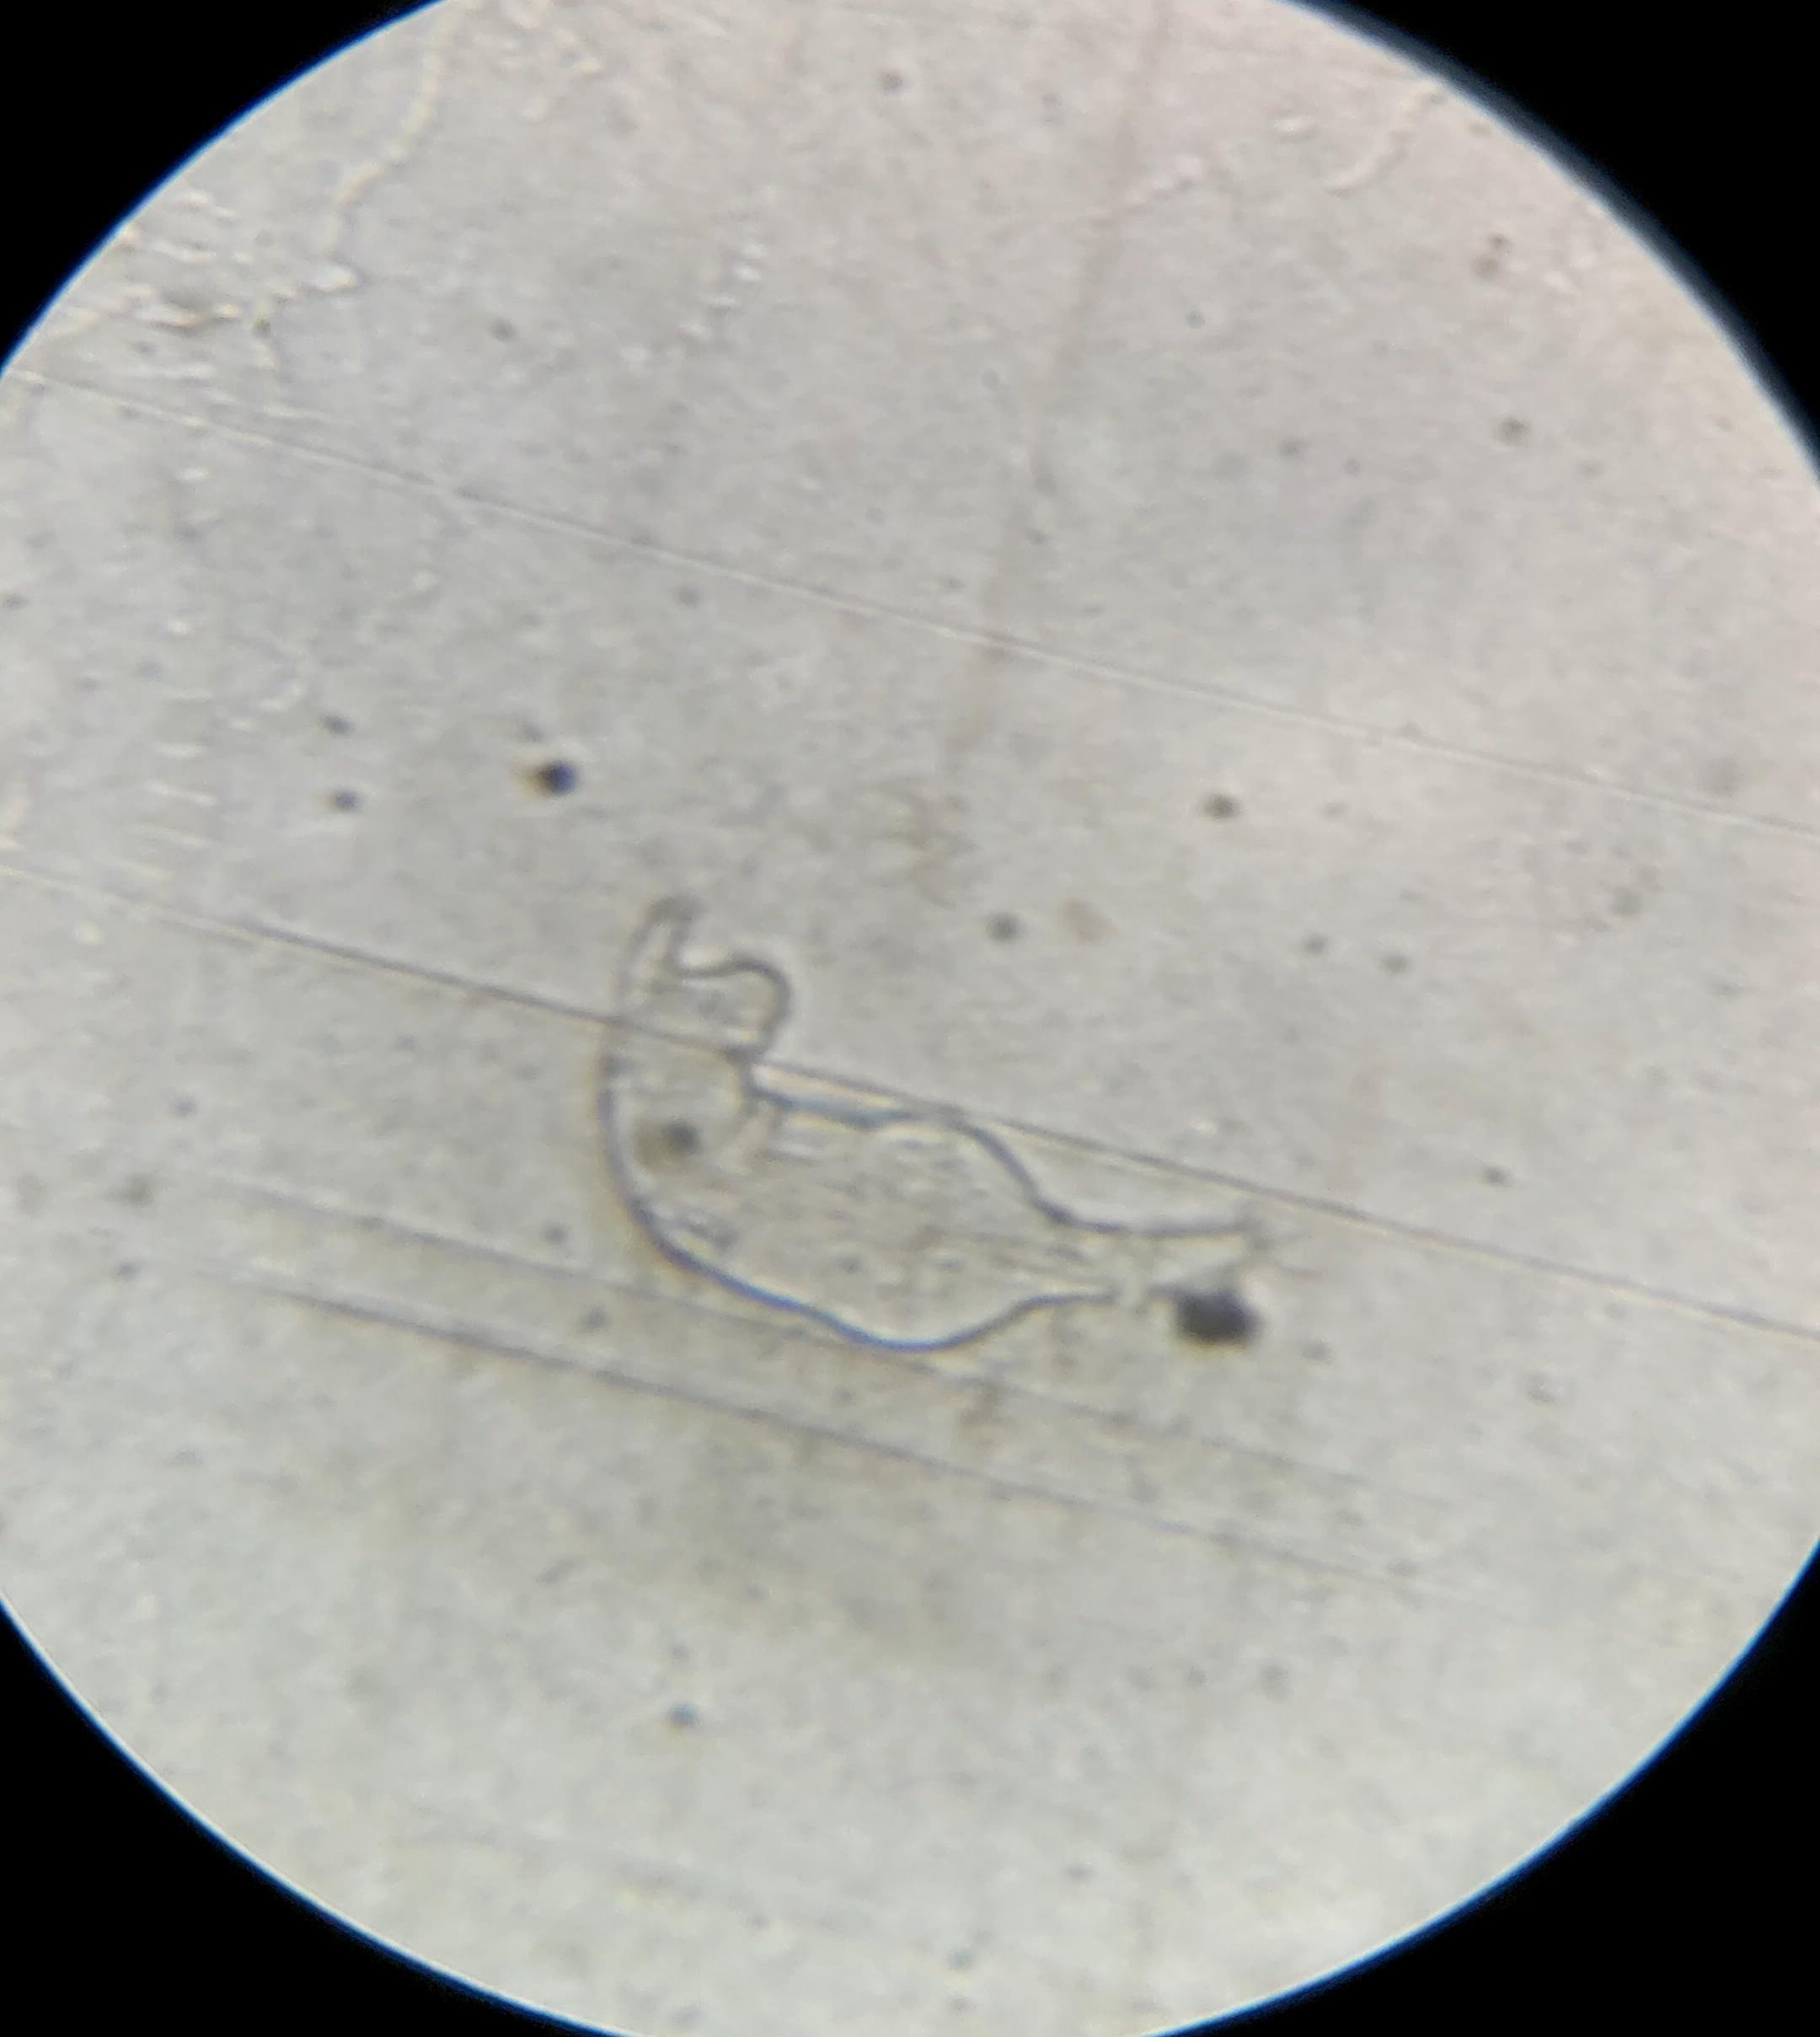Do: (604, 896, 1325, 1352), (603, 895, 1323, 1350)
